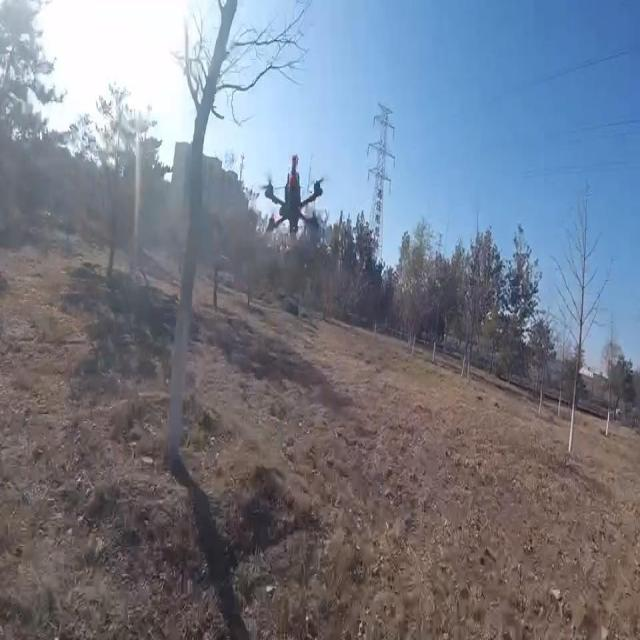drone: (253, 152, 328, 247)
